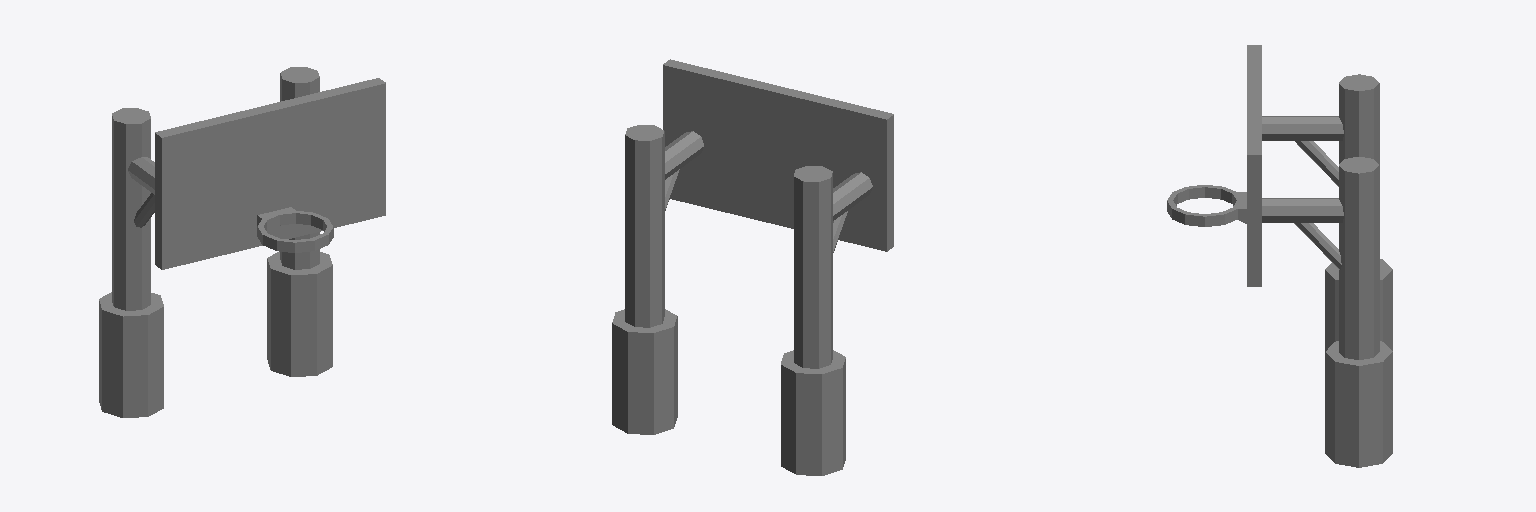
The model's file is BasketBall_Board.obj.
3 views of the same model, side by side, from view 1: azimuth 30°, elevation 25°; view 2: azimuth 150°, elevation 25°; view 3: azimuth 270°, elevation 25° (orthographic).
Parts seen in each view (by area): view 1: Board_BasketBall_Board_group; view 2: Board_BasketBall_Board_group; view 3: Board_BasketBall_Board_group.
Part boxes in pixels (x1,y1,x2,y2): Board_BasketBall_Board_group: (99,67,385,417); Board_BasketBall_Board_group: (612,59,893,475); Board_BasketBall_Board_group: (1167,45,1392,467).
Size of the model in its own units: 67.79 by 88.96 by 58.1.